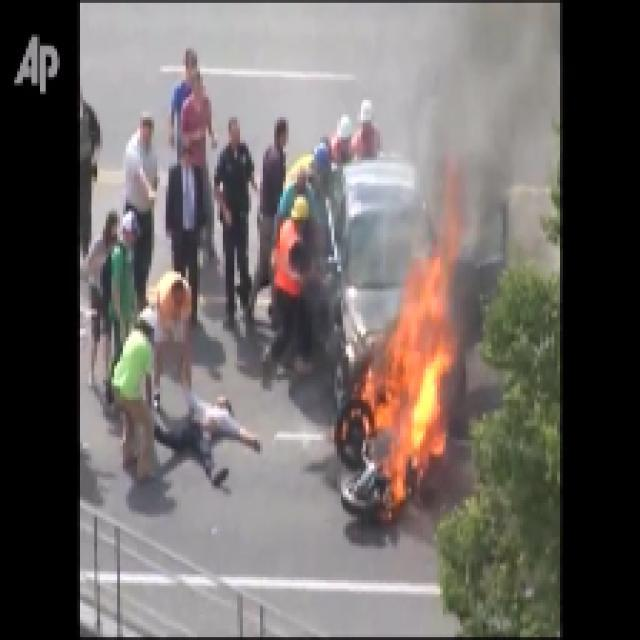Fire: (340, 180, 466, 494)
Smoke: (371, 3, 560, 183)
